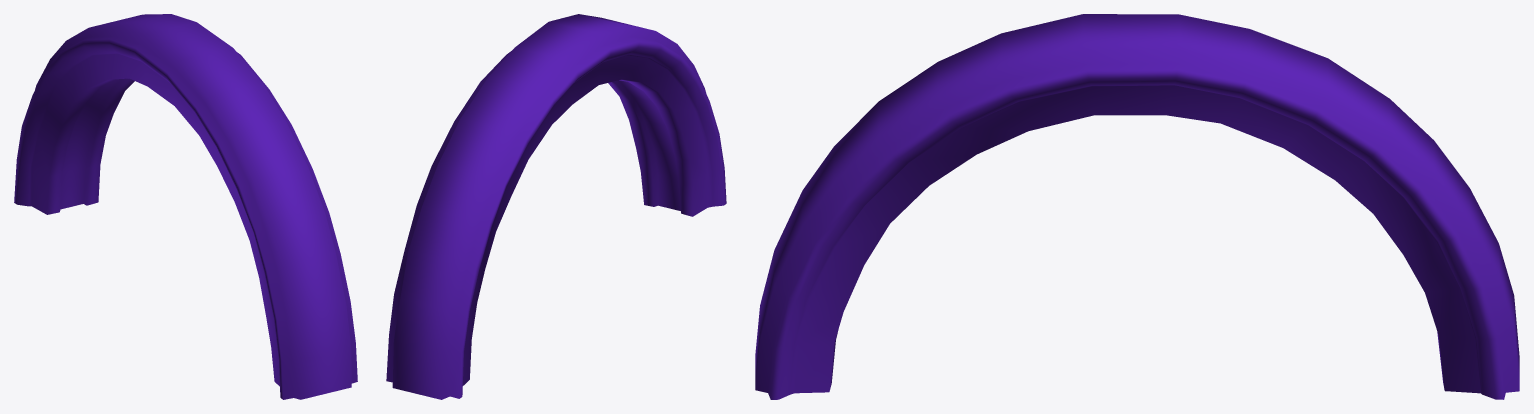
File: arch_01.FBX
3 views of the same model, side by side, from view 1: azimuth 30°, elevation 25°; view 2: azimuth 150°, elevation 25°; view 3: azimuth 270°, elevation 25° (orthographic). The views are drawn at different scales.
Parts seen in each view (by area): view 1: arch_01; view 2: arch_01; view 3: arch_01.
Boxes of the visible parts, left/top/right/bottom form: arch_01: left=14, top=14, right=357, bottom=399; arch_01: left=386, top=14, right=726, bottom=399; arch_01: left=755, top=14, right=1519, bottom=399.
Bounding box in the file's own units: 12.05 × 39 × 78.54.
